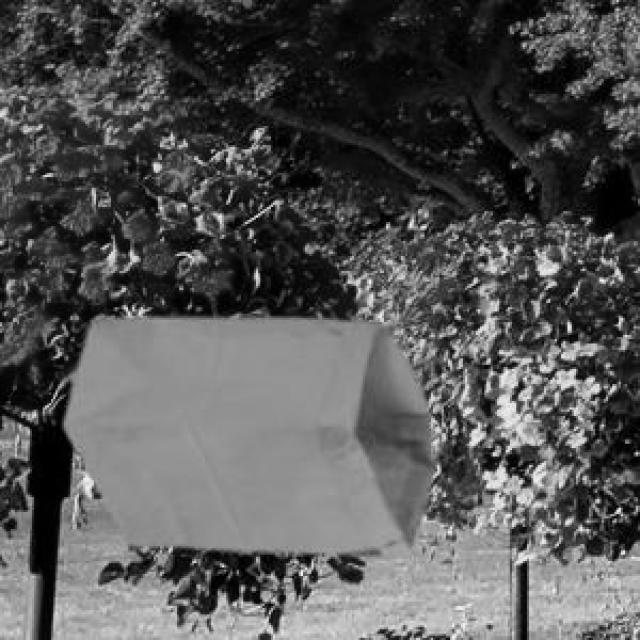paper: (60, 314, 429, 550)
